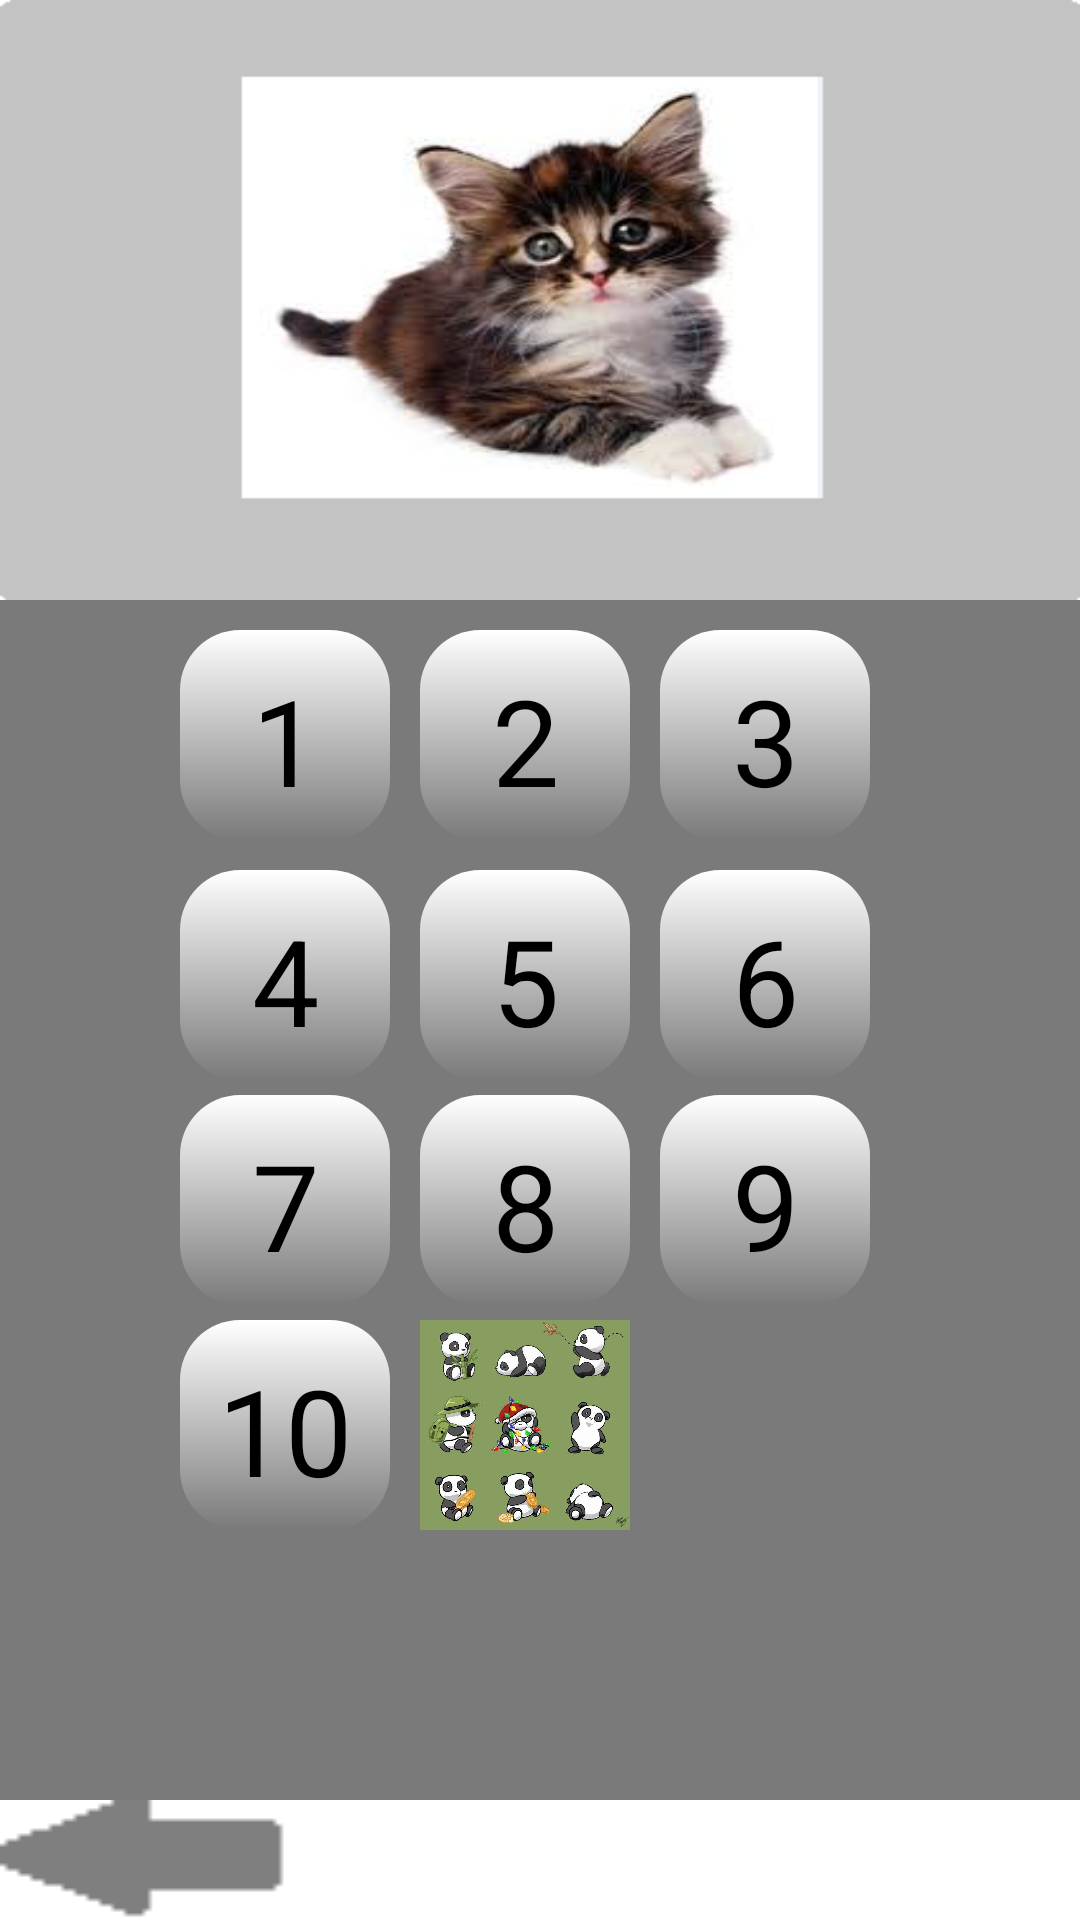

Icons on this 1080x1920 Android screen, each with the point to tap as (x,y):
back arrow: (141,1858)
panda: (525,1425)
